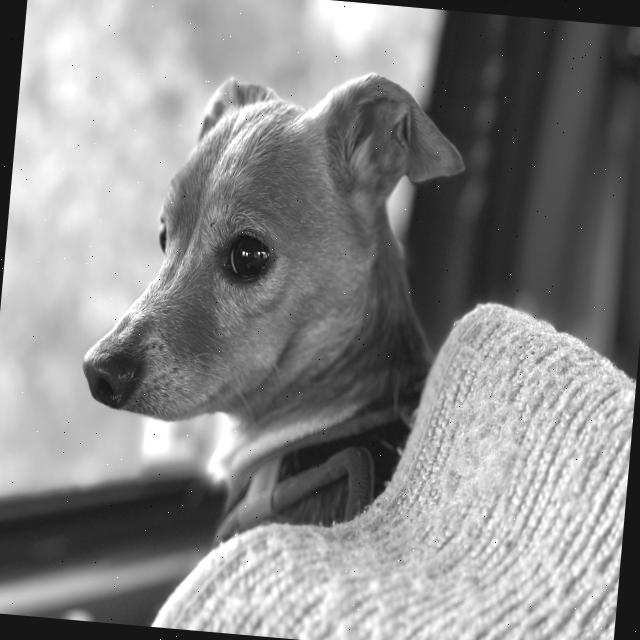chihuahua_dog: (64, 33, 481, 454)
